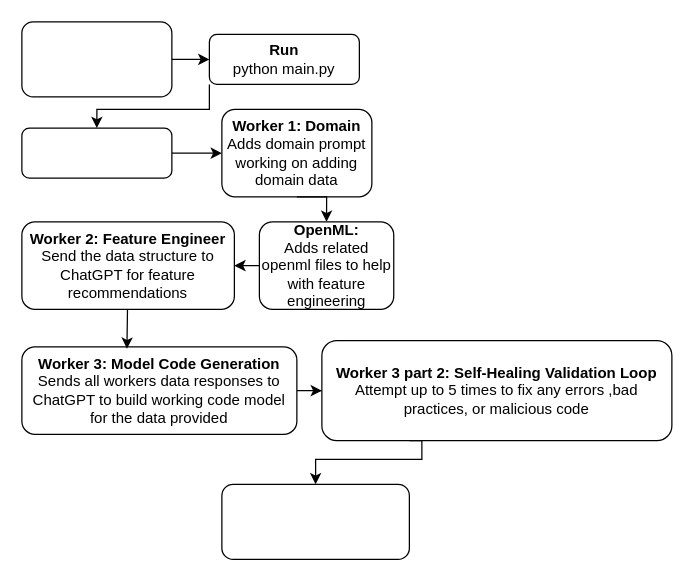
The diagram is 694 pixels wide and 581 high, and some of its shapes have lost their labels. Each missing label, with the centre of its shape:
"Data Input Adding data files to data folder" goes at [96,59].
"Data loading & analysis of data type" goes at [96,152].
"OUTPUT: Shows the pipeline and summary of the workflow" goes at [315,521].
